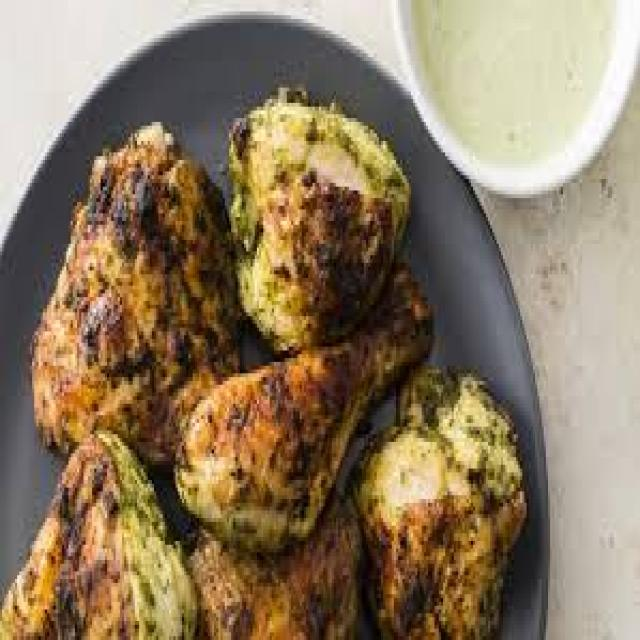Frango: (9, 114, 533, 640)
